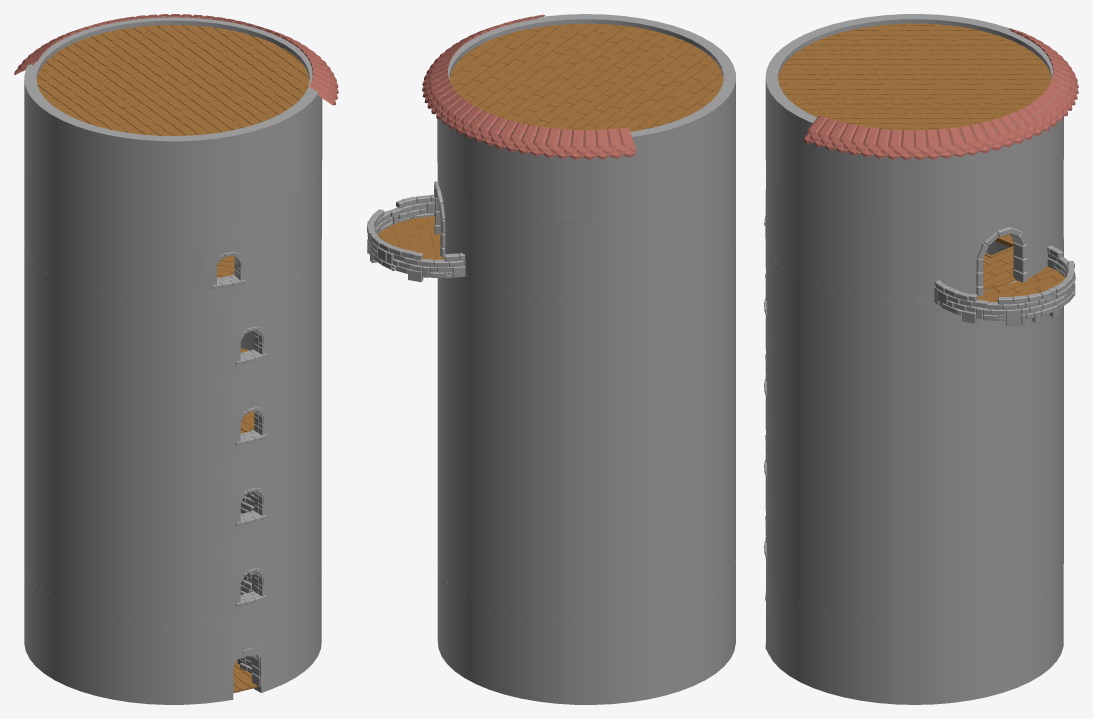
Rendered from torre4 (2).fbx.
The picture shows the model from 3 angles, left to right: view 1: azimuth 30°, elevation 25°; view 2: azimuth 150°, elevation 25°; view 3: azimuth 270°, elevation 25°; orthographic projection.
Visible parts, largest first — view 1: pCylinder13, pDisc22, pCylinder11, pCylinder136, pCylinder137, pCylinder138, pCylinder135, pCylinder12, pCube3467, pCube3465, polySurface81, polySurface80 (+3 smaller); view 2: pCylinder13, pCylinder11, pCylinder136, pCylinder12, pCylinder137, pCylinder138, pCylinder135, pDisc22, pCube3467, pCube3468, polySurface66; view 3: pCylinder11, pCylinder137, pCylinder136, pCylinder12, pCylinder13, pDisc22, pCylinder135, pCylinder138, pCube3467, pCube3468, polySurface66.
Part boxes in pixels (<box>): pCylinder13: <box>24,16,322,221</box>; pDisc22: <box>37,25,309,135</box>; pCylinder11: <box>24,324,321,463</box>; pCylinder136: <box>24,485,321,624</box>; pCylinder137: <box>24,405,321,543</box>; pCylinder138: <box>24,241,321,382</box>; pCylinder135: <box>24,161,321,302</box>; pCylinder12: <box>24,566,321,704</box>; pCube3467: <box>14,14,338,105</box>; pCube3465: <box>240,428,254,673</box>; polySurface81: <box>235,488,267,525</box>; polySurface80: <box>235,568,267,606</box>; pCylinder13: <box>437,14,735,220</box>; pCylinder11: <box>437,319,735,462</box>; pCylinder136: <box>437,480,735,624</box>; pCylinder12: <box>437,561,735,704</box>; pCylinder137: <box>437,400,735,543</box>; pCylinder138: <box>437,241,735,381</box>; pCylinder135: <box>437,162,735,301</box>; pDisc22: <box>449,23,723,131</box>; pCube3467: <box>422,14,636,159</box>; pCube3468: <box>367,194,465,281</box>; polySurface66: <box>434,181,445,257</box>; pCylinder11: <box>765,317,1063,462</box>; pCylinder137: <box>765,398,1063,543</box>; pCylinder136: <box>765,479,1063,624</box>; pCylinder12: <box>765,564,1063,704</box>; pCylinder13: <box>765,14,1063,221</box>; pDisc22: <box>778,23,1051,130</box>; pCylinder135: <box>765,162,1063,301</box>; pCylinder138: <box>765,238,1063,381</box>; pCube3467: <box>803,28,1078,160</box>; pCube3468: <box>934,234,1075,326</box>; polySurface66: <box>976,227,1027,295</box>.
Bounding box in the file's own units: 21.67 × 40.02 × 20.
